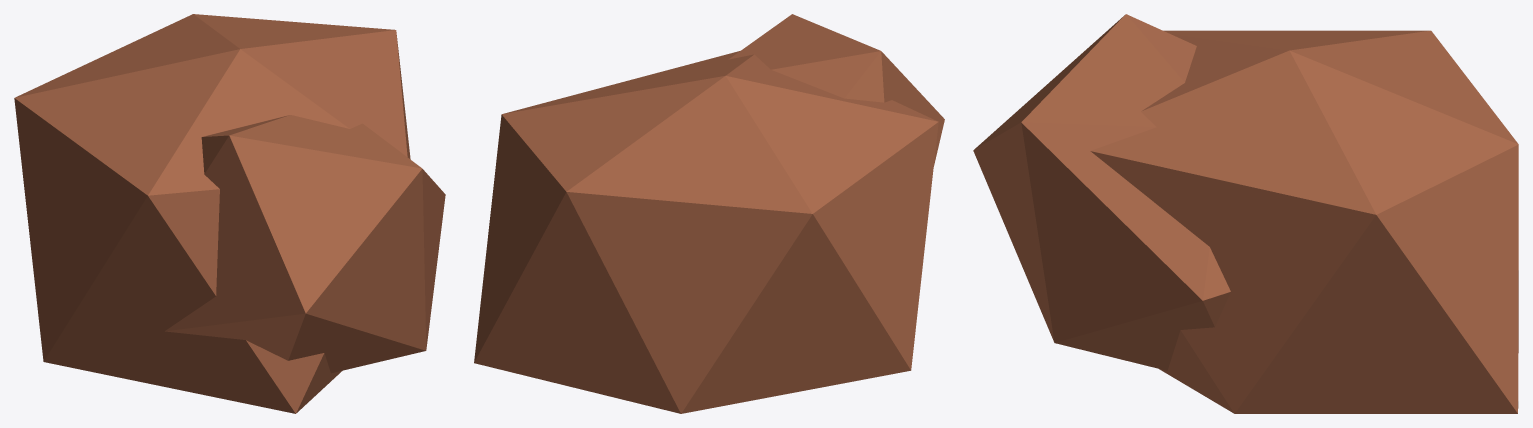
The model's file is large-brown-rock.fbx.
3 renders of one model, left to right at view 1: azimuth 30°, elevation 25°; view 2: azimuth 150°, elevation 25°; view 3: azimuth 270°, elevation 25°, orthographic. The views are drawn at different scales.
Parts seen in each view (by area): view 1: Icosphere.007; view 2: Icosphere.007; view 3: Icosphere.007.
Boxes of the visible parts, bbox=[...] form: Icosphere.007: bbox=[14, 14, 445, 413]; Icosphere.007: bbox=[474, 14, 944, 413]; Icosphere.007: bbox=[973, 14, 1518, 413].
Bounding box in the file's own units: 732 × 602 × 828.
